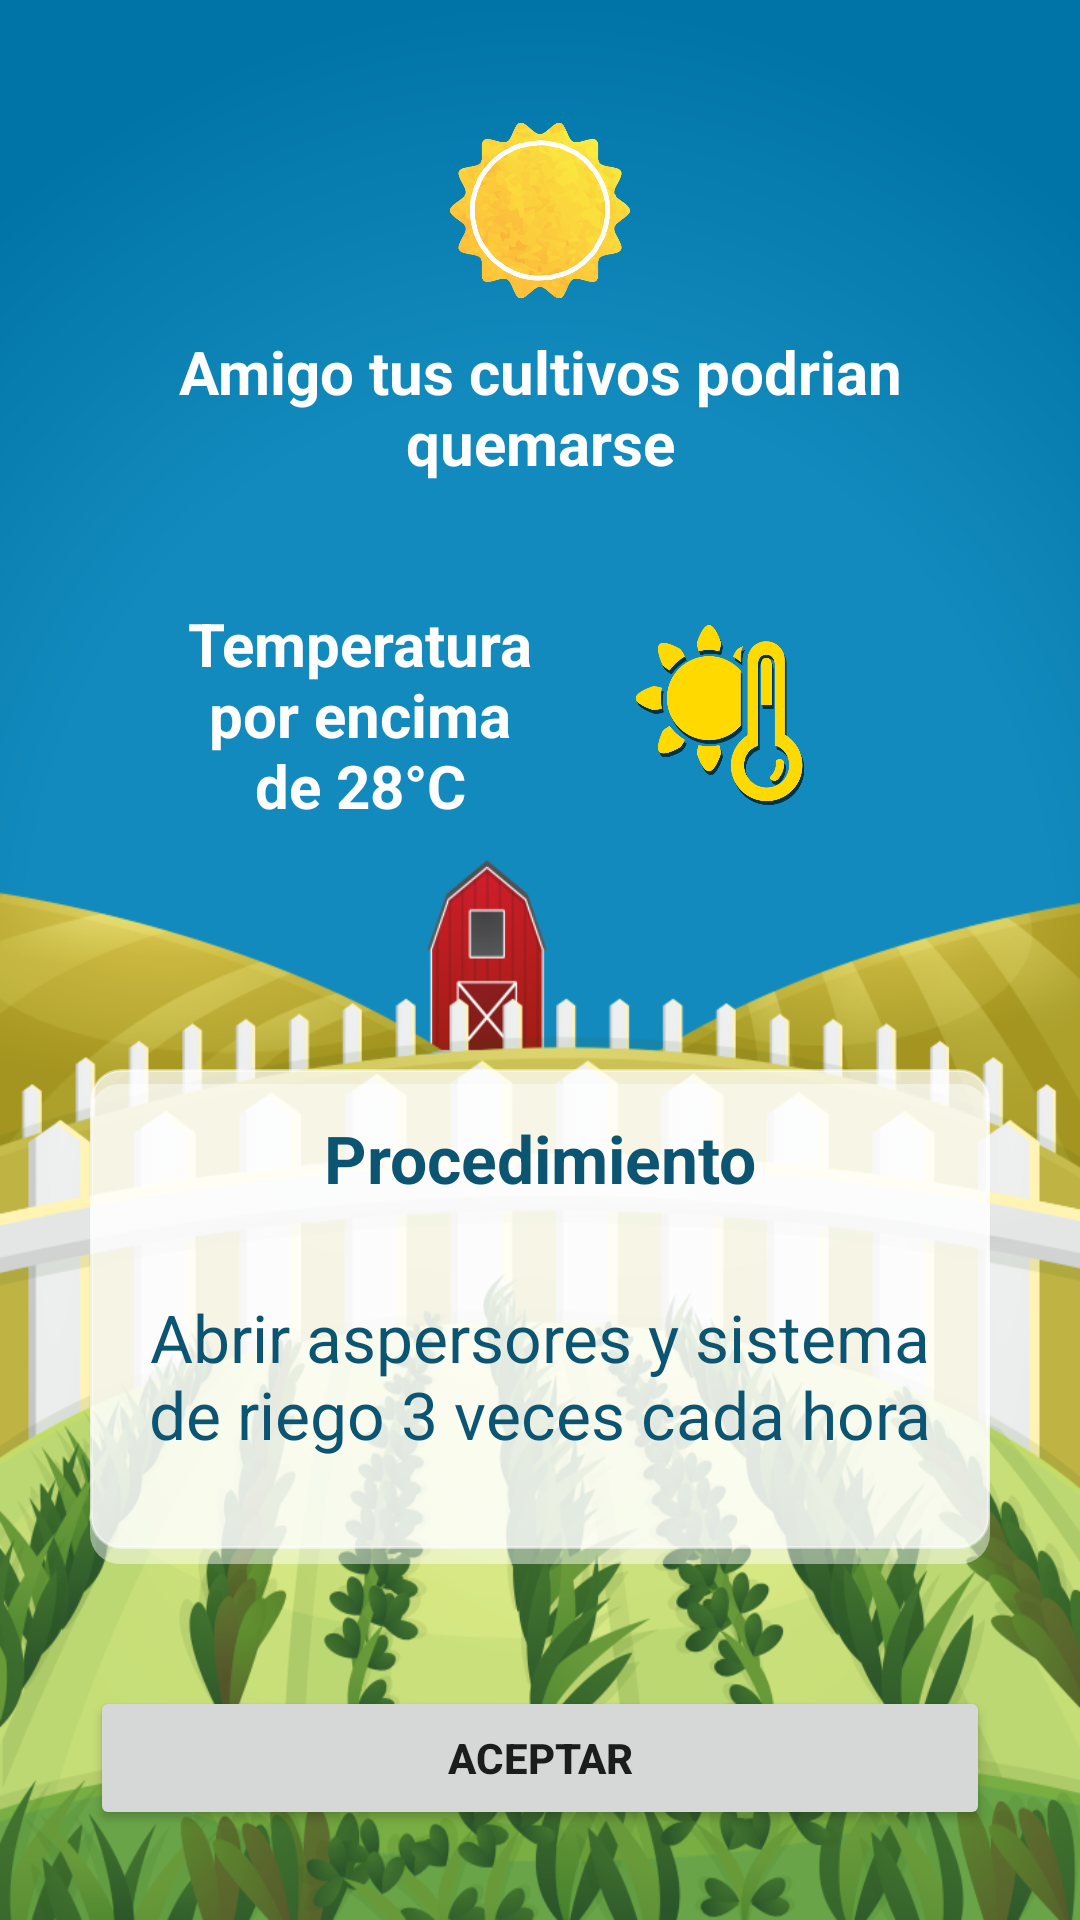

Icons on this 1080w x 1920h Android screen, each with the point to tap as (x,y):
sol: (540,210)
termo sol: (720,715)
